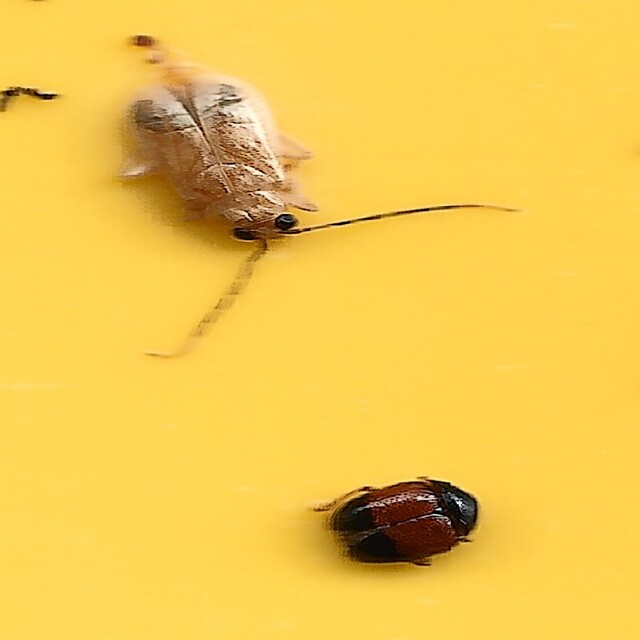Coleoptera: (113, 71, 527, 360), (310, 476, 484, 569)
